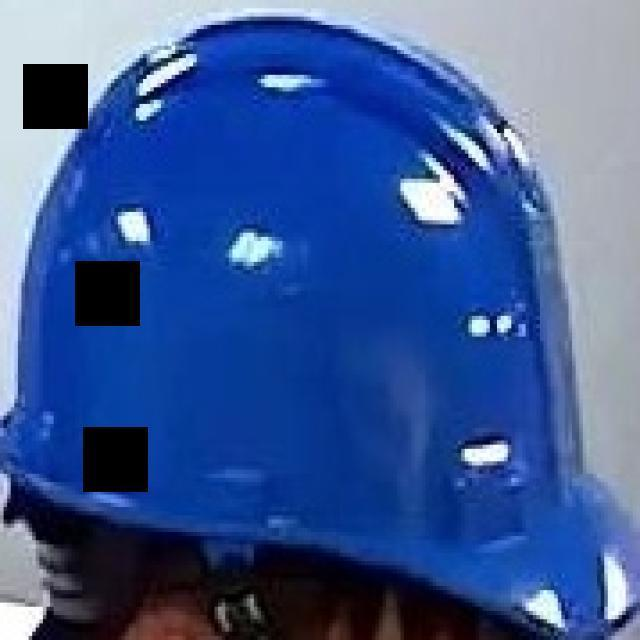blue helmet: (12, 6, 626, 635)
